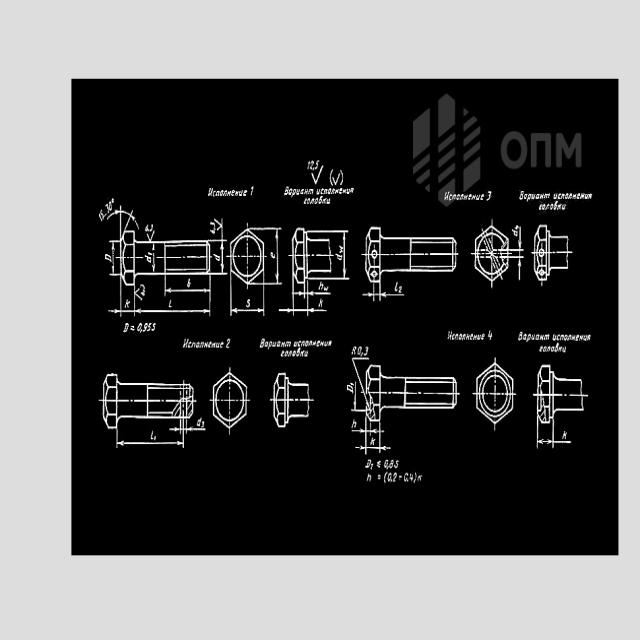marking_line: (109, 301, 210, 316), (116, 430, 184, 449), (230, 286, 265, 317), (163, 277, 211, 298), (265, 228, 282, 286), (279, 297, 328, 317), (332, 230, 349, 281), (107, 206, 141, 231), (536, 424, 571, 448), (508, 227, 522, 281), (363, 284, 405, 301), (355, 434, 390, 453), (211, 239, 227, 278), (292, 284, 332, 299), (168, 419, 206, 434), (353, 381, 365, 413), (351, 423, 384, 434), (109, 241, 119, 276)
numeric: (105, 252, 113, 263), (144, 255, 153, 263), (104, 204, 110, 214), (225, 337, 230, 349), (108, 201, 113, 212), (314, 160, 319, 171), (186, 278, 191, 289), (147, 322, 152, 332), (246, 298, 251, 308), (486, 192, 491, 202), (403, 473, 408, 483), (250, 185, 254, 197), (488, 329, 492, 341), (142, 323, 147, 332), (97, 213, 102, 222), (306, 160, 311, 169), (168, 298, 173, 307), (270, 251, 275, 260), (364, 347, 369, 356), (351, 346, 356, 355), (409, 473, 414, 482), (100, 209, 104, 220), (310, 160, 314, 171), (137, 323, 142, 331), (145, 223, 149, 233), (358, 346, 362, 356), (150, 224, 154, 233), (384, 459, 388, 468), (390, 459, 394, 468), (395, 460, 399, 469), (387, 473, 391, 482), (152, 323, 156, 331), (514, 224, 519, 230), (399, 286, 403, 293), (393, 473, 396, 481)
special_symbol: (311, 171, 322, 185), (213, 218, 222, 231), (332, 173, 340, 186), (135, 288, 142, 301), (111, 198, 115, 204)
